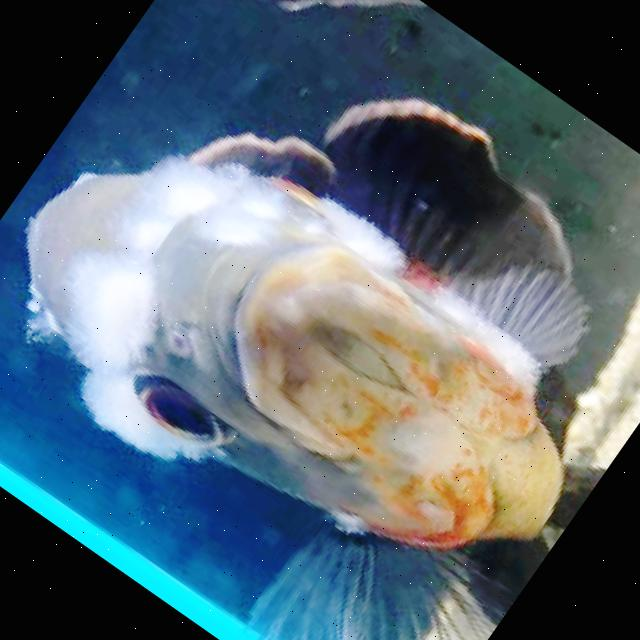Fungal Disease -Saprolegniasis-: (27, 98, 605, 640), (26, 99, 586, 640), (28, 99, 585, 546)
